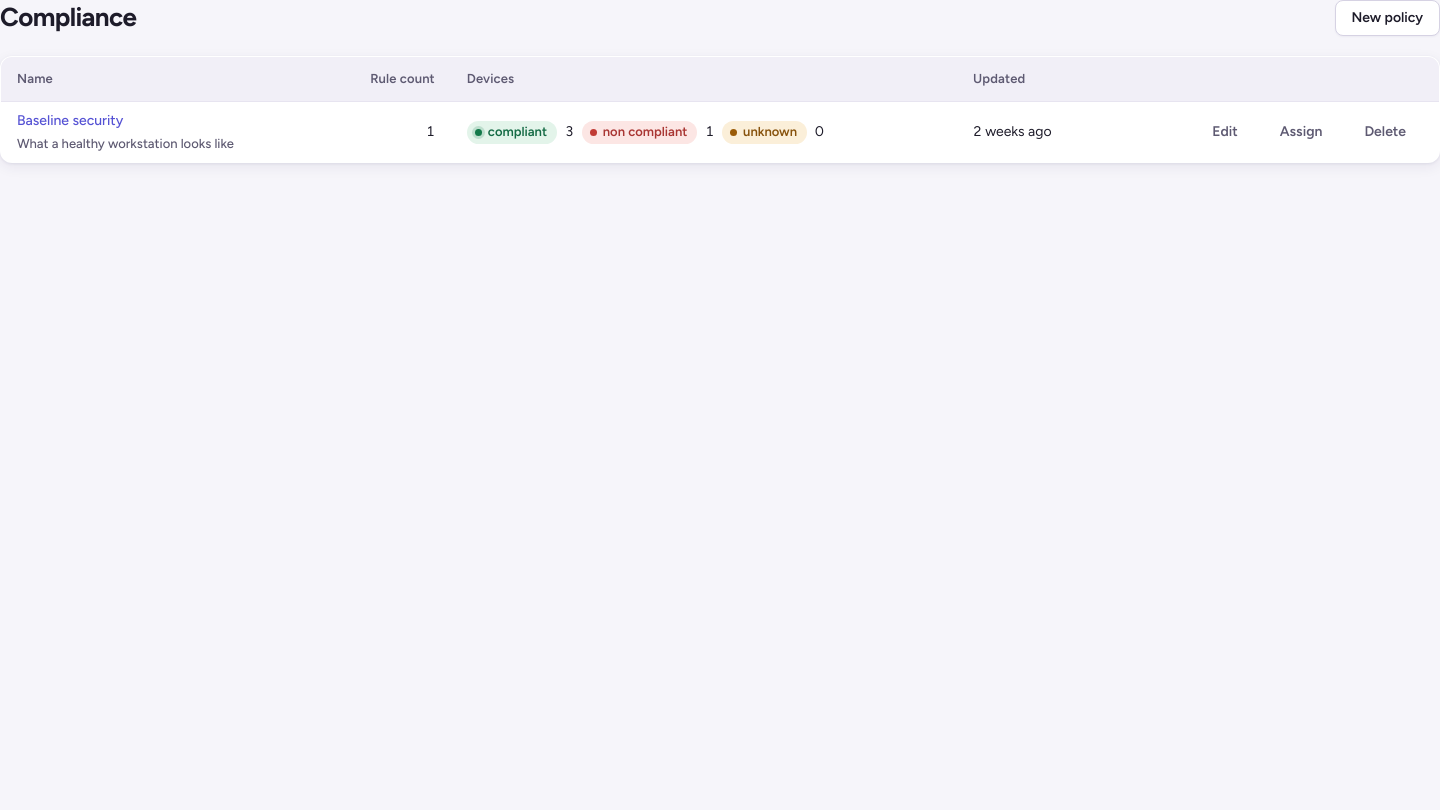
Test: Compliance › follows a rename in the open detail rather than holding the old policy
Open the detail, then rename the policy underneath it.
What coordinates should you click on to do the following:
click the button "Baseline security"
I would click on:
 (70, 121)
Its box is x1=17 y1=110 x2=123 y2=132.
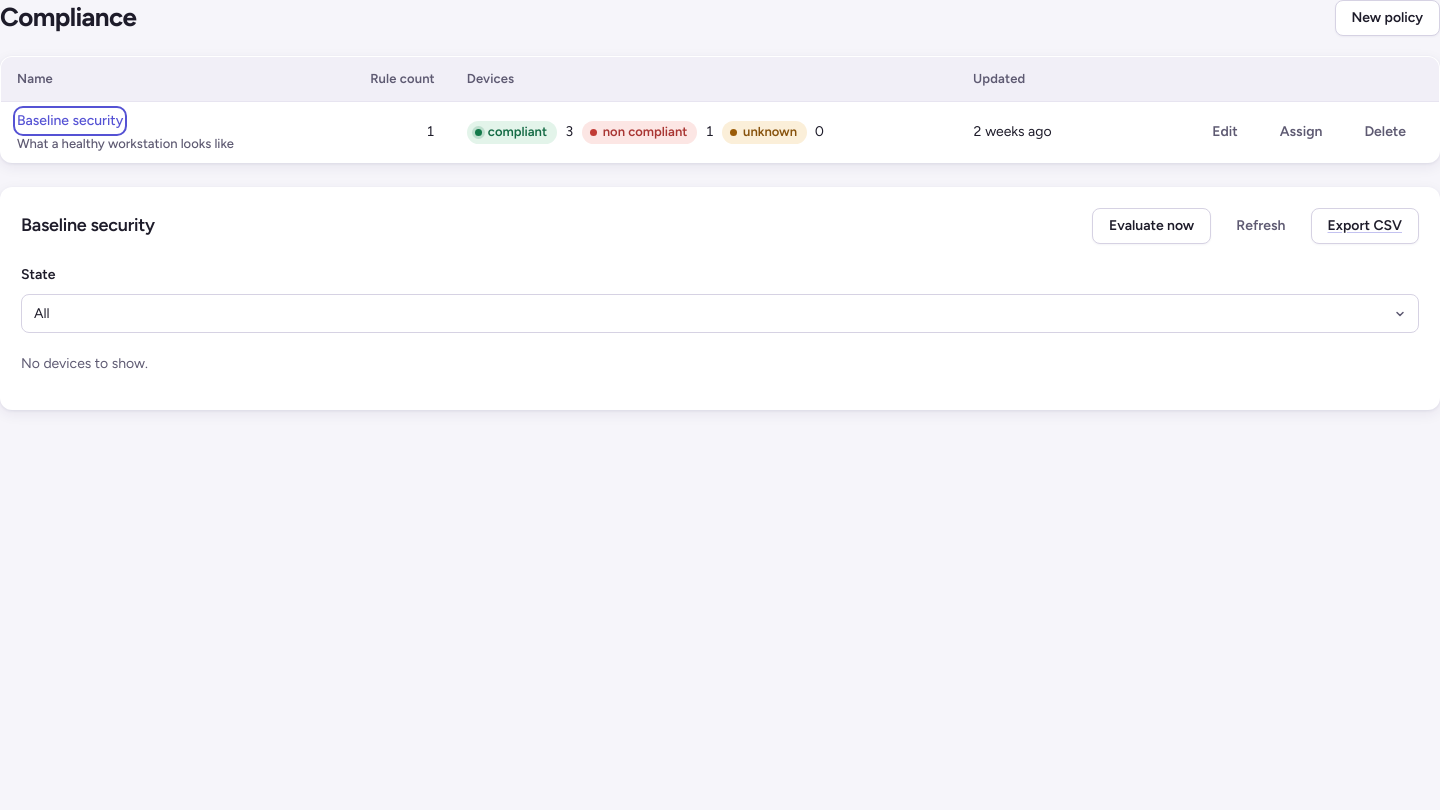
Expected: the heading "Baseline security" is shown, x1=21 y1=214 x2=155 y2=238
What coordinates should you click on to do the following:
click the button "Edit"
I would click on:
 (1225, 132)
Its box is x1=1195 y1=114 x2=1255 y2=150.
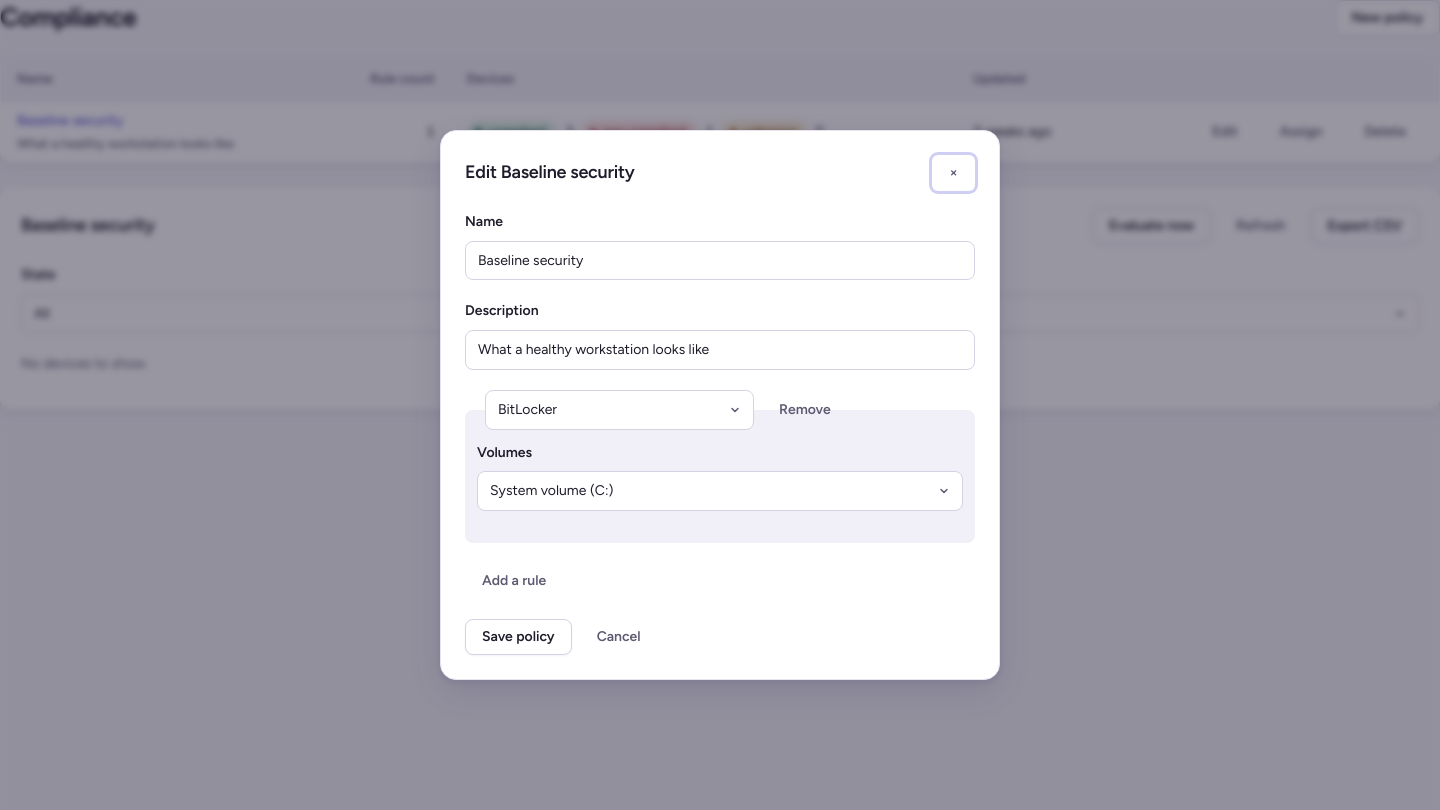
What coordinates should you click on to do the following:
click the button "Save policy"
I would click on:
 (518, 637)
Its box is x1=465 y1=619 x2=572 y2=655.
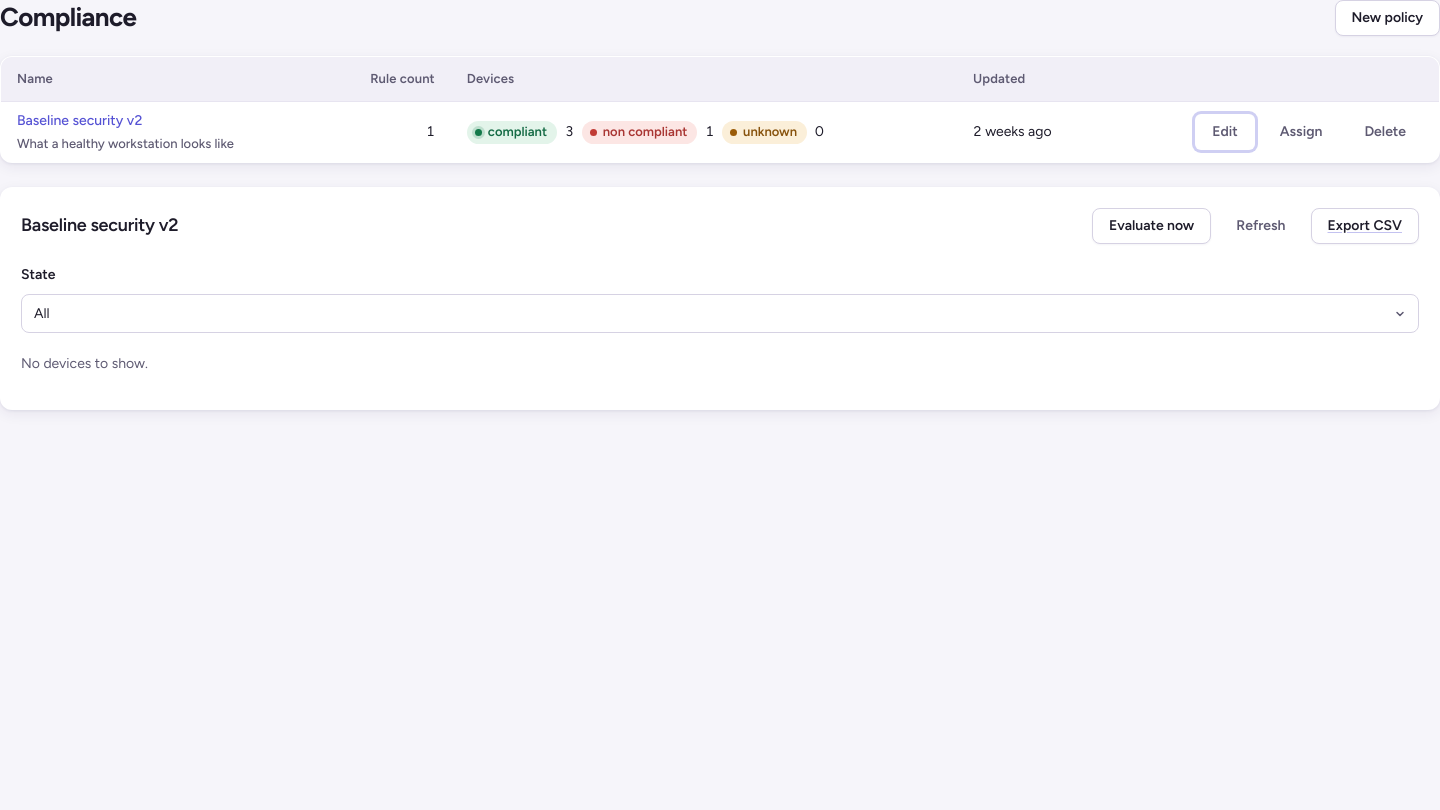
Expected: the heading "Baseline security v2" is shown, x1=21 y1=214 x2=178 y2=238
